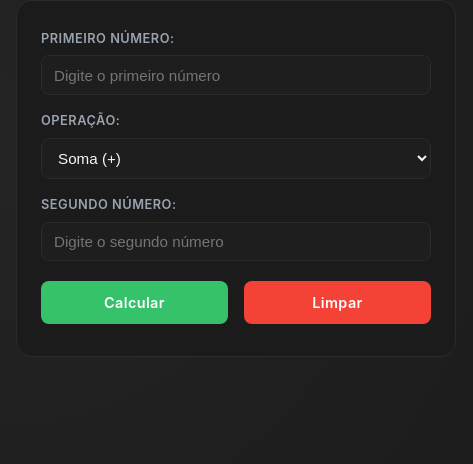
CalculatorComponent - Testes de Fluxo de Controle › Caminho 3A: Entrada Inválida → Erro › deve seguir caminho de erro quando num1 é inválido
Type "abc" into the field with test id "num1-input" at (236, 75), box [41,55,431,95]
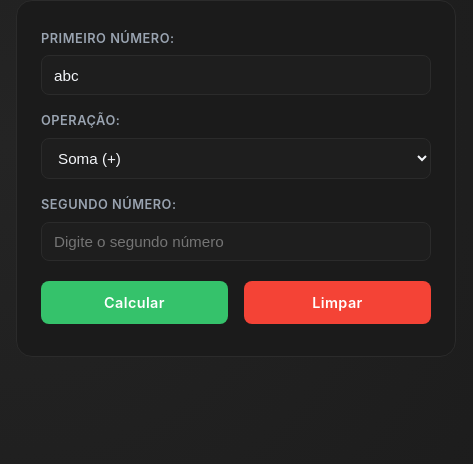
Type "5" into the field with test id "num2-input" at (236, 242), box [41,222,431,262]
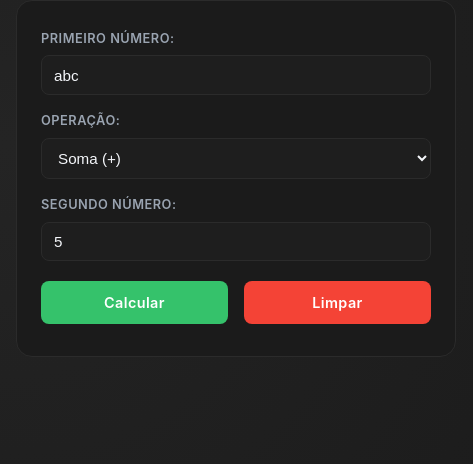
Click the button with test id "calculate-button" at (134, 303), box [41,282,228,324]
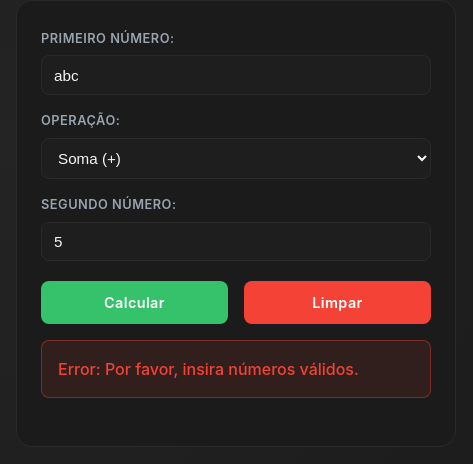
Result: the text with test id "error" shows "Por favor, insira números válidos." at [105,360,359,380]
